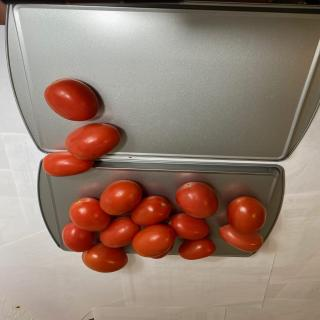Chilli: (61, 179, 267, 273)
Tomato: (44, 78, 99, 122), (64, 123, 120, 160), (176, 182, 218, 218), (99, 180, 142, 215), (132, 224, 176, 258), (226, 196, 266, 233), (69, 197, 111, 232), (82, 243, 128, 273), (42, 151, 94, 177), (219, 224, 264, 253), (131, 195, 171, 226), (100, 217, 140, 248), (167, 213, 210, 240), (62, 222, 94, 252), (178, 237, 216, 260)
